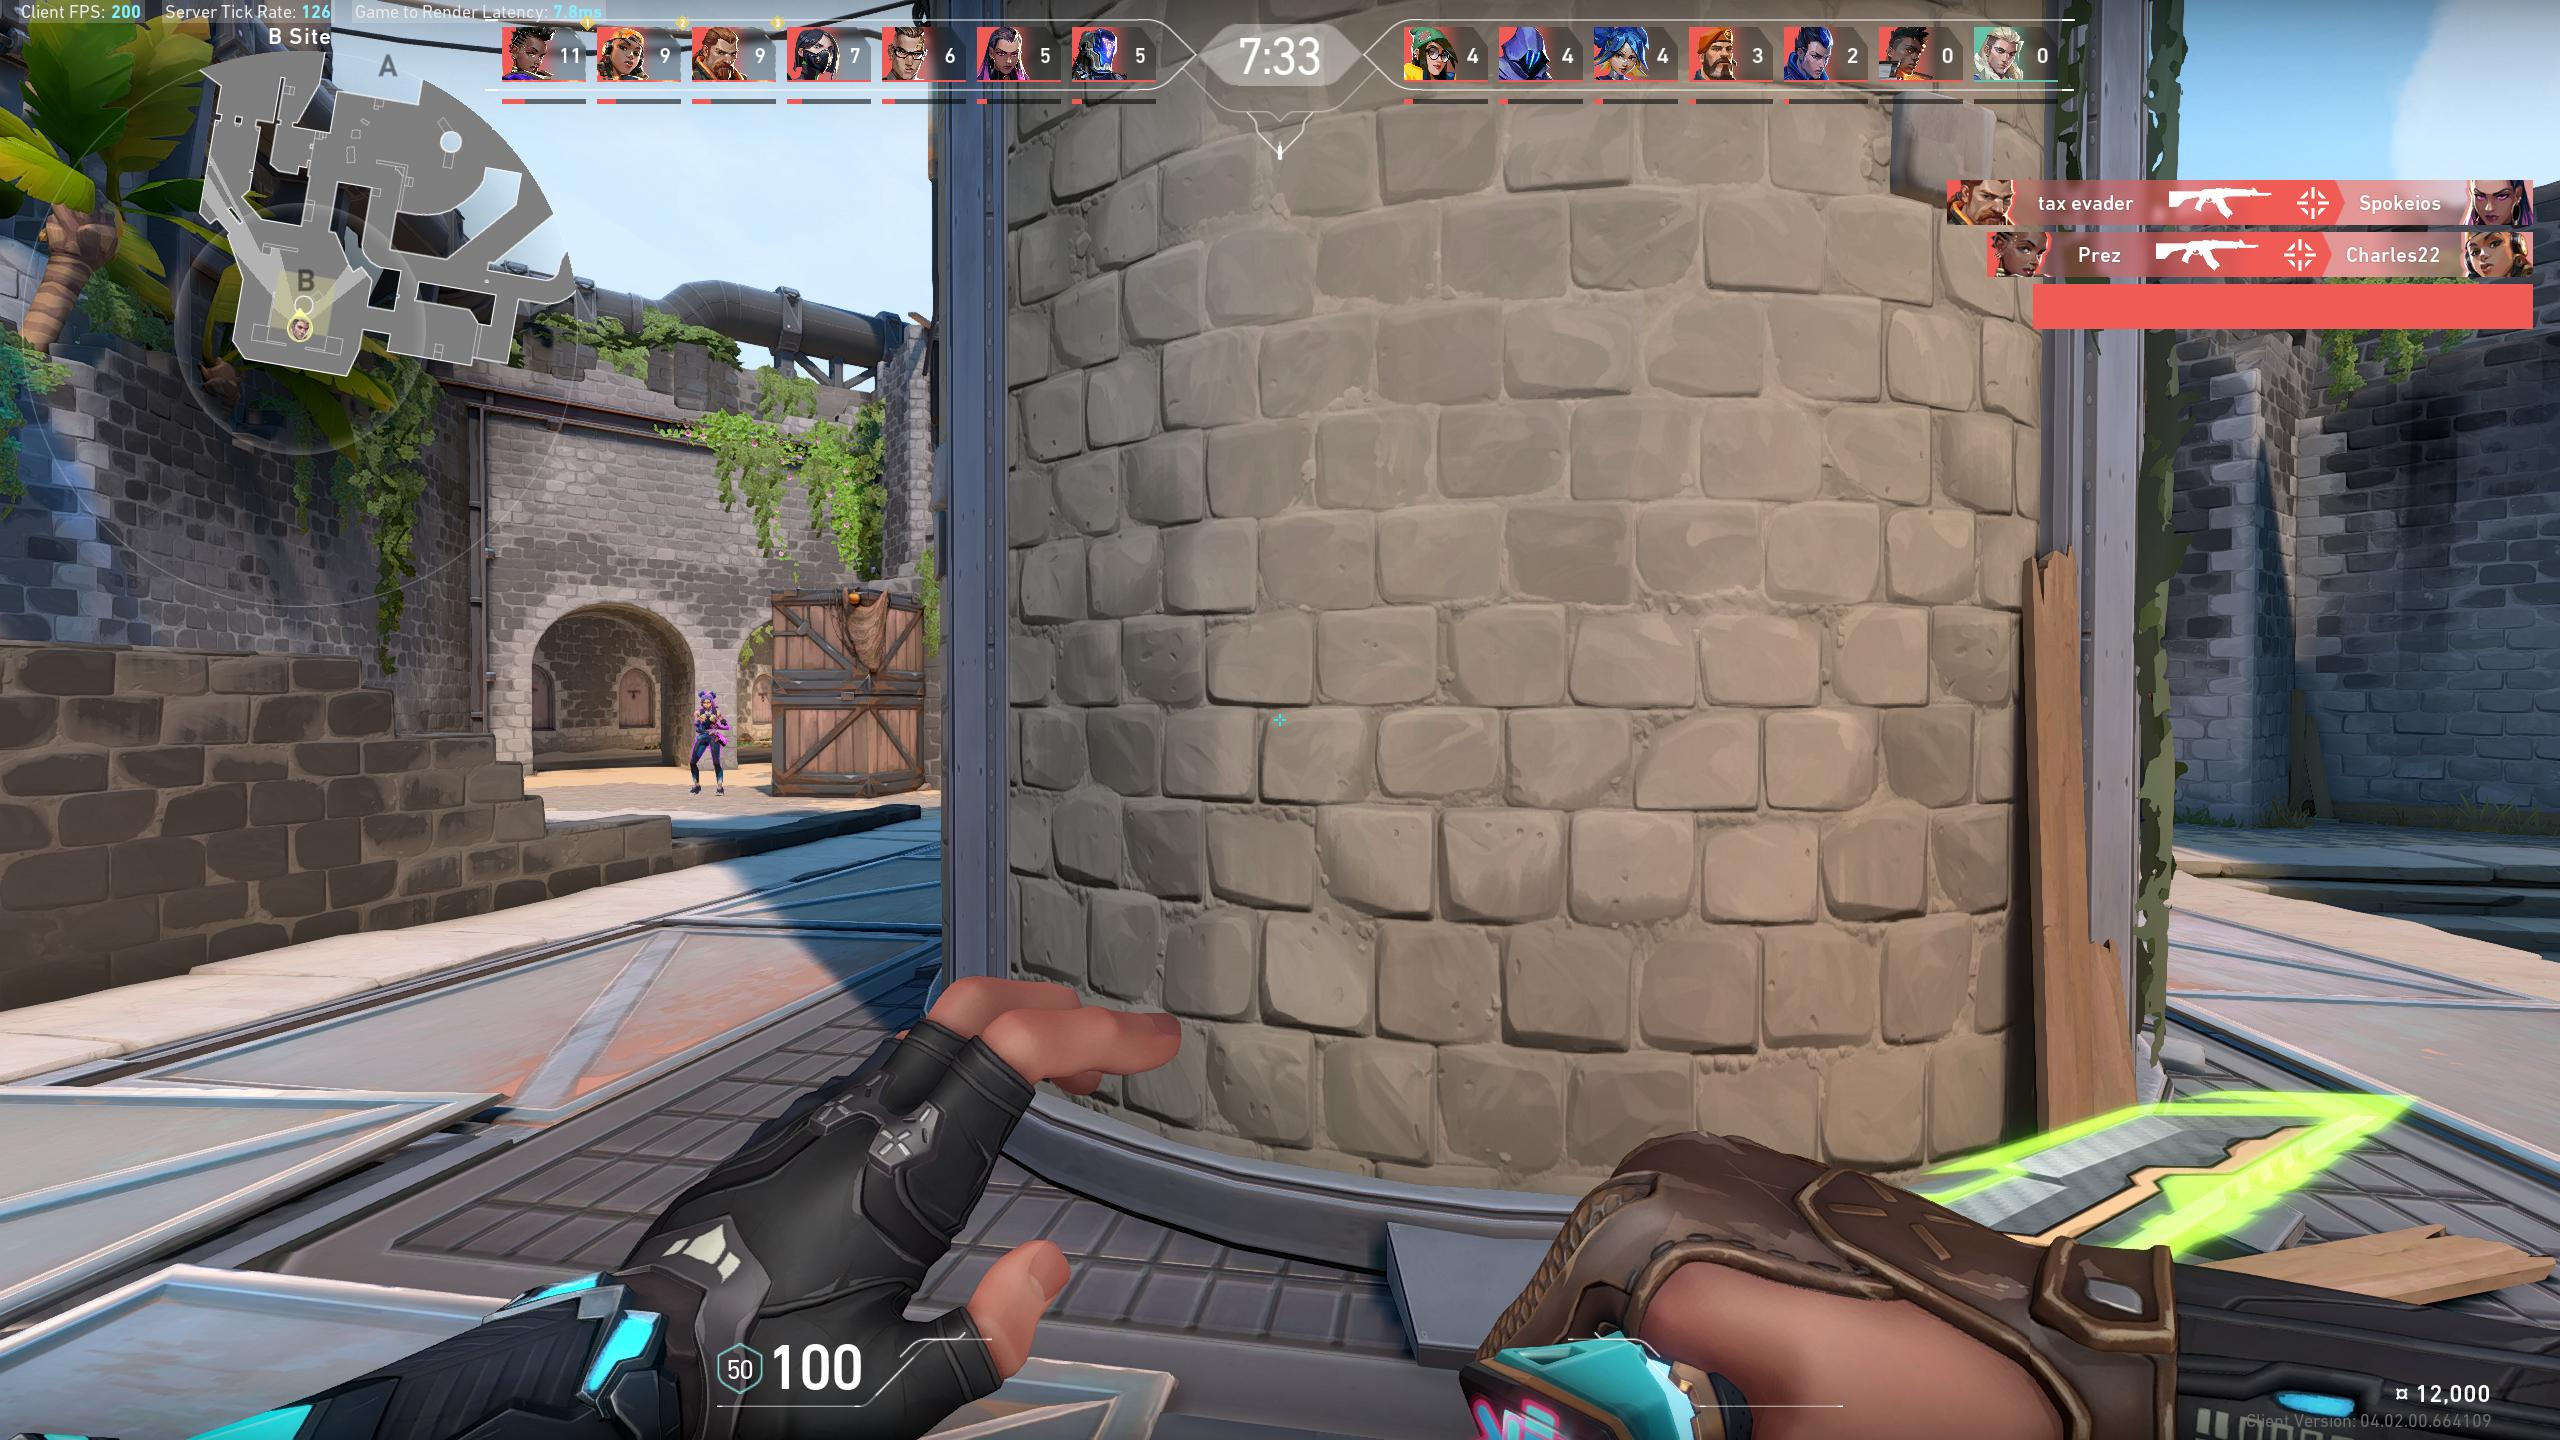enemyBody: (700, 712, 717, 735)
enemyHead: (702, 696, 712, 709)
